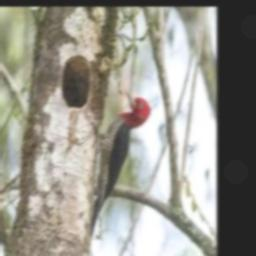Woodpecker: (90, 85, 150, 238)
